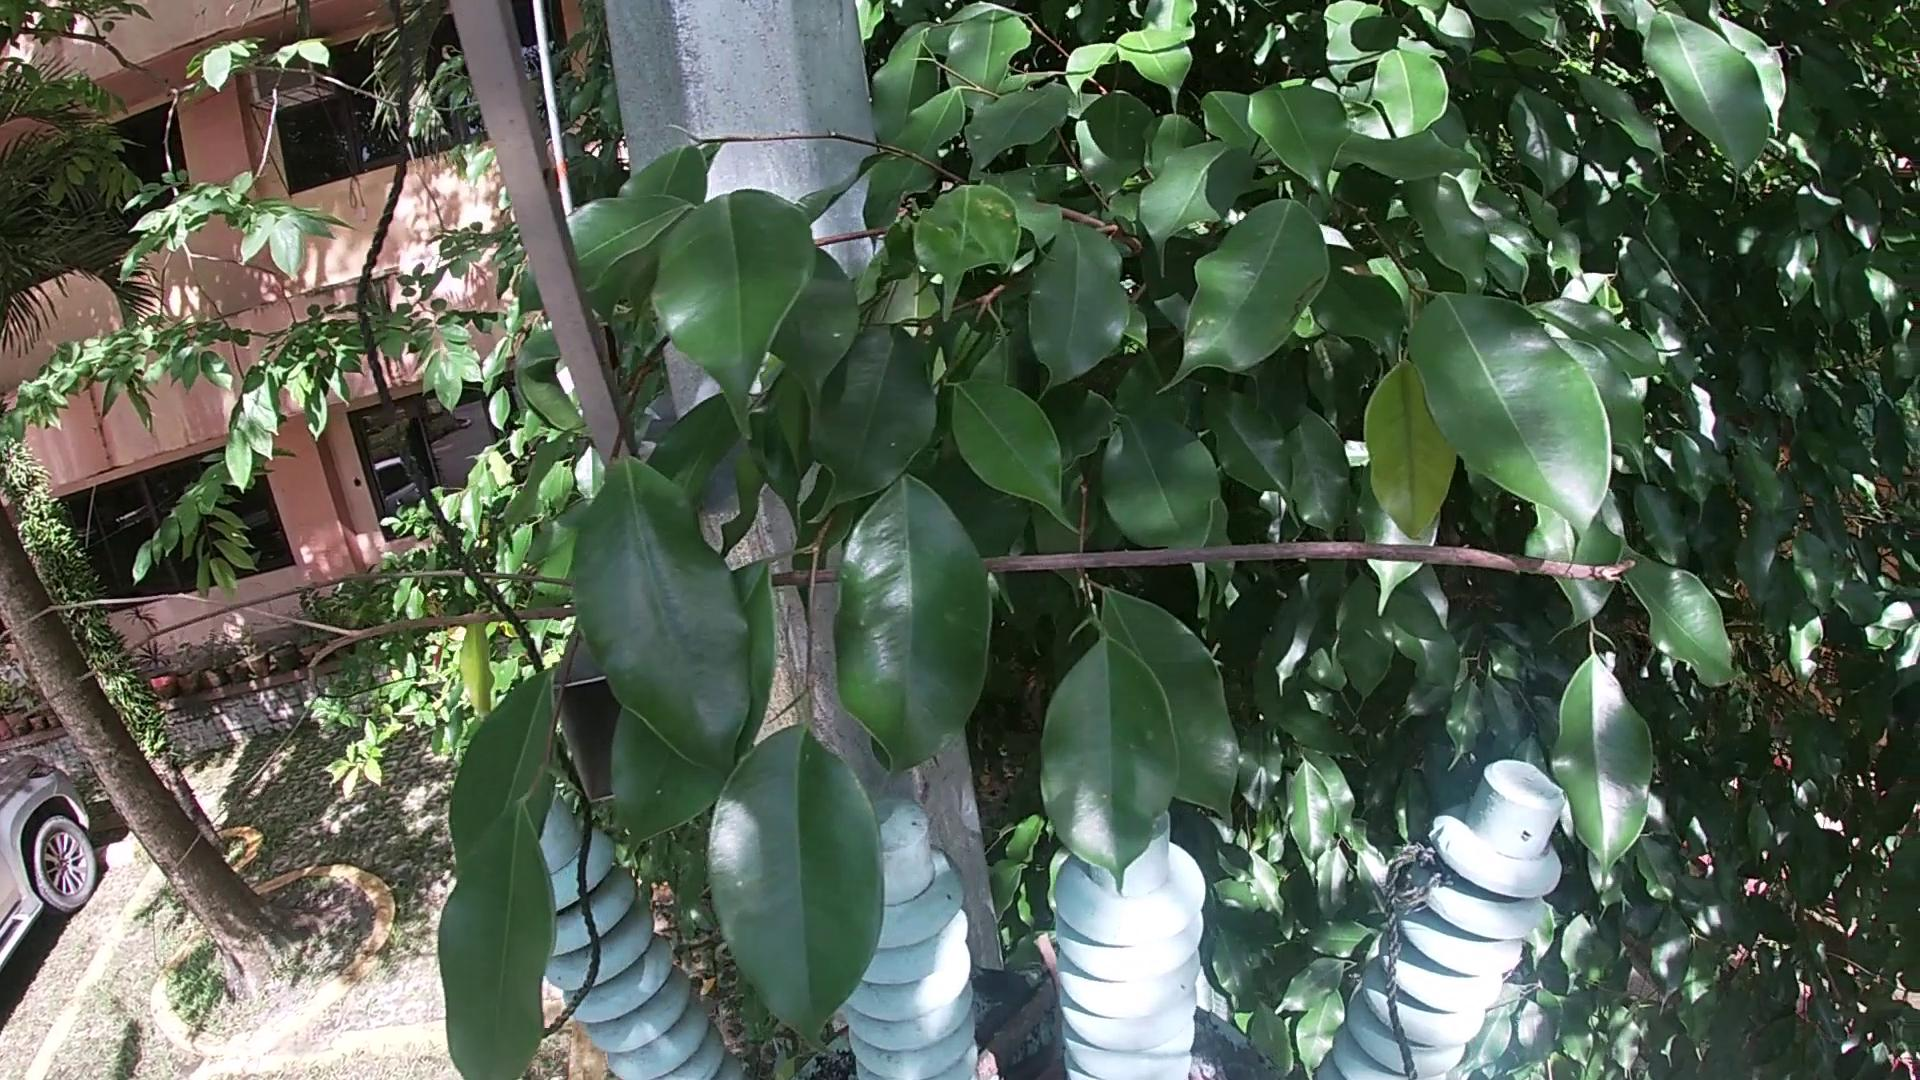tree branch: (5, 527, 1668, 909), (984, 963, 1068, 1075), (1029, 928, 1065, 1073)
